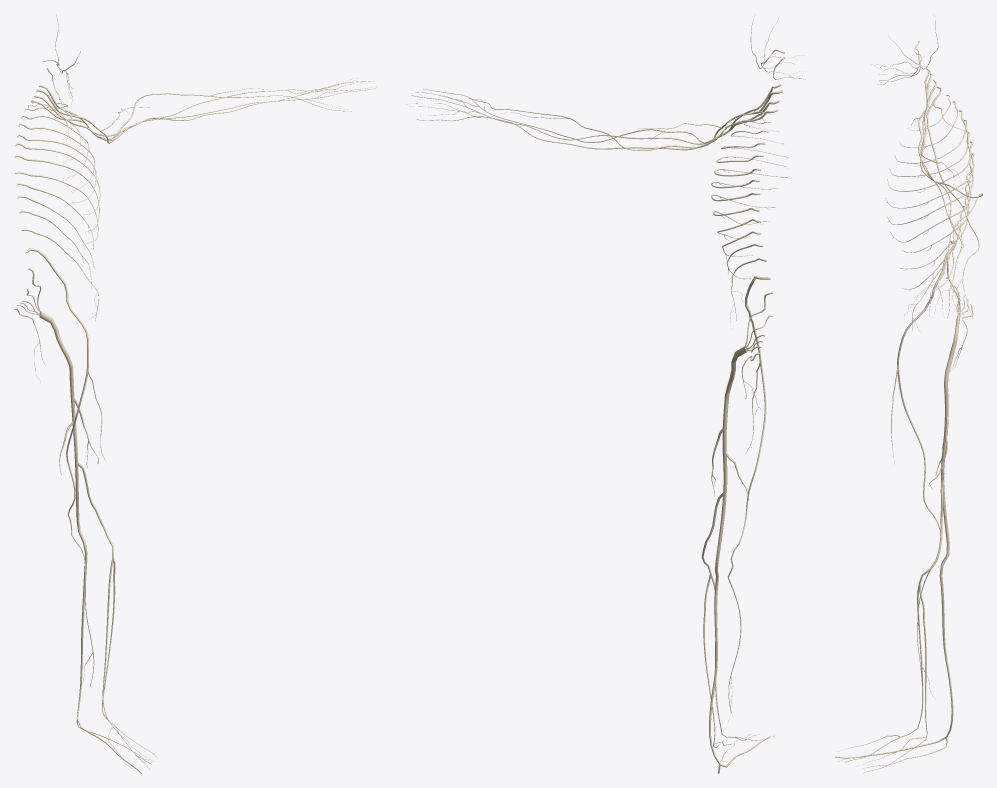
Rendered from Nerves_Left.fbx.
The picture shows the model from 3 angles, left to right: view 1: azimuth 30°, elevation 25°; view 2: azimuth 150°, elevation 25°; view 3: azimuth 270°, elevation 25°; orthographic projection. The views are drawn at different scales.
Visible parts, largest first — view 1: Nerves_Left; view 2: Nerves_Left; view 3: Nerves_Left.
Part boxes in pixels (box(x1,y1,x2,y2)): Nerves_Left: box(14, 14, 377, 773); Nerves_Left: box(406, 14, 805, 773); Nerves_Left: box(835, 16, 982, 773).
Size of the model in its own units: 86.67 by 175 by 32.28.
